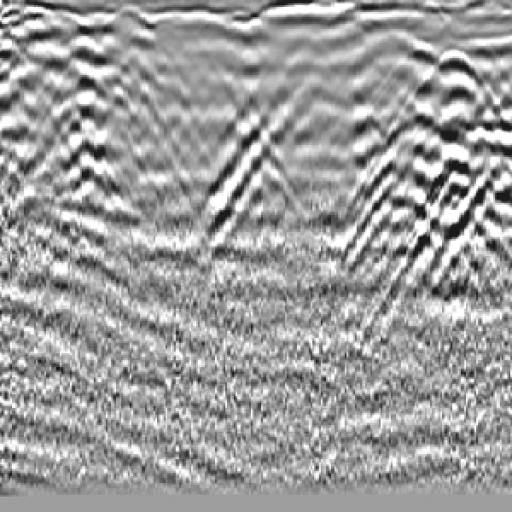non-metallic: (373, 32, 512, 282), (14, 25, 176, 214)
